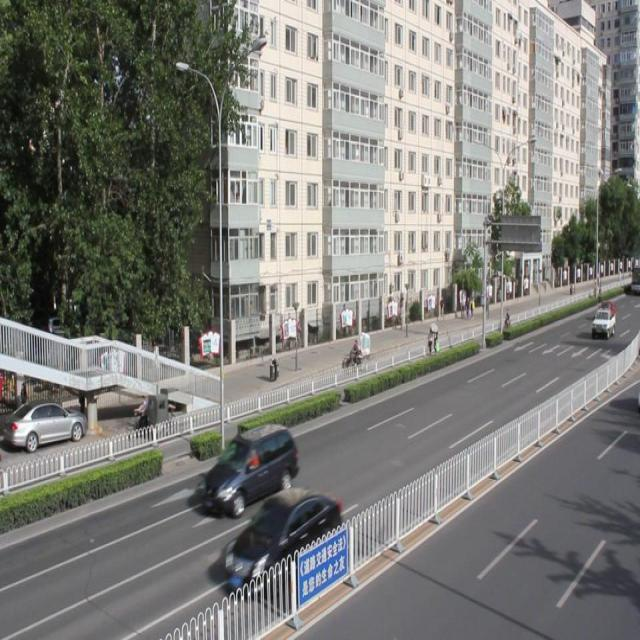car: (223, 489, 341, 595), (202, 422, 297, 512)
